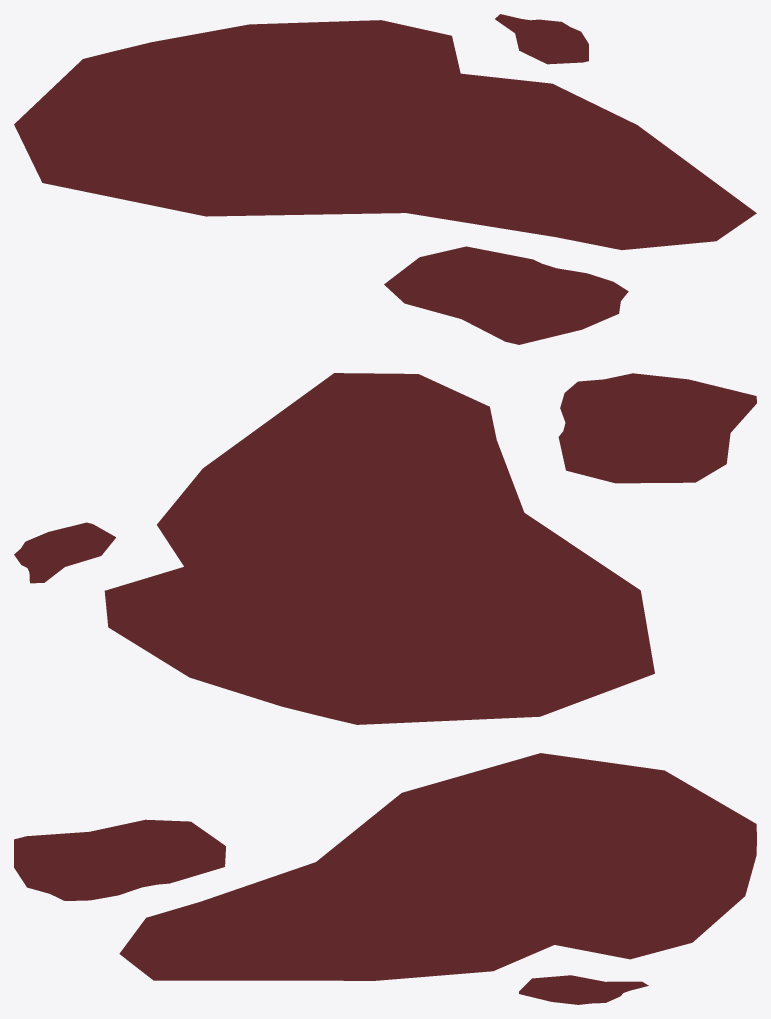
The model's file is prop_blood.glb.
The picture shows the model from 3 angles, top to bottom: view 1: azimuth 30°, elevation 25°; view 2: azimuth 150°, elevation 25°; view 3: azimuth 270°, elevation 25°; orthographic projection. The views are drawn at different scales.
Parts seen in each view (by area): view 1: Blood_3; view 2: Blood_3; view 3: Blood_3.
Part boxes in pixels (x1=…): Blood_3: x1=14, y1=14, x2=756, y2=344; Blood_3: x1=14, y1=373, x2=756, y2=724; Blood_3: x1=14, y1=753, x2=756, y2=1004.
Bounding box in the file's own units: 1.72 × 7.92e-07 × 2.14.
Materials: 1 (1 with a texture image).
